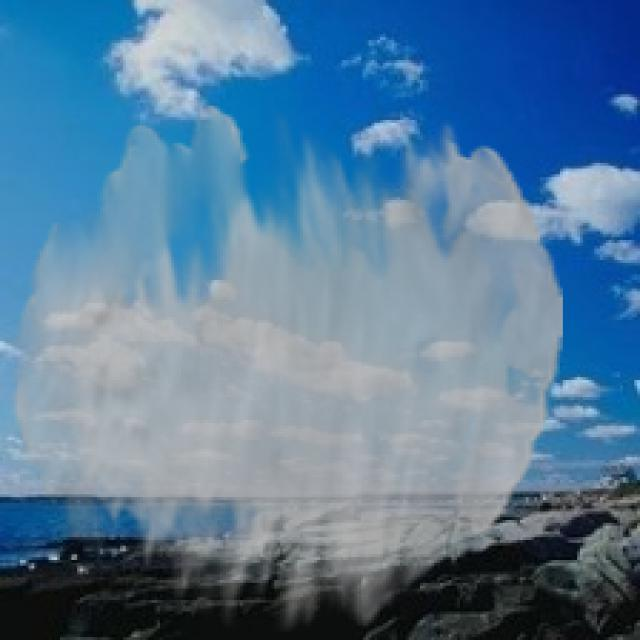Smoke: (11, 106, 563, 632)
